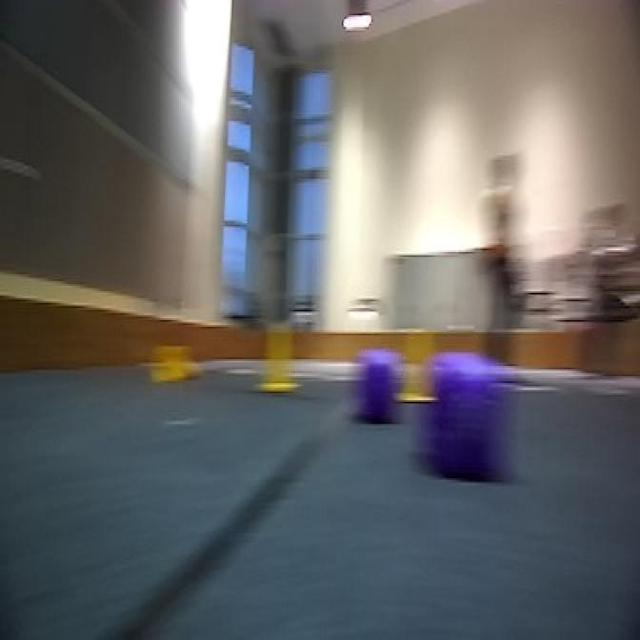frc_cone: (391, 329, 445, 405), (260, 320, 302, 398), (151, 334, 206, 393)
frc_cube: (430, 366, 505, 488), (361, 373, 396, 420)
